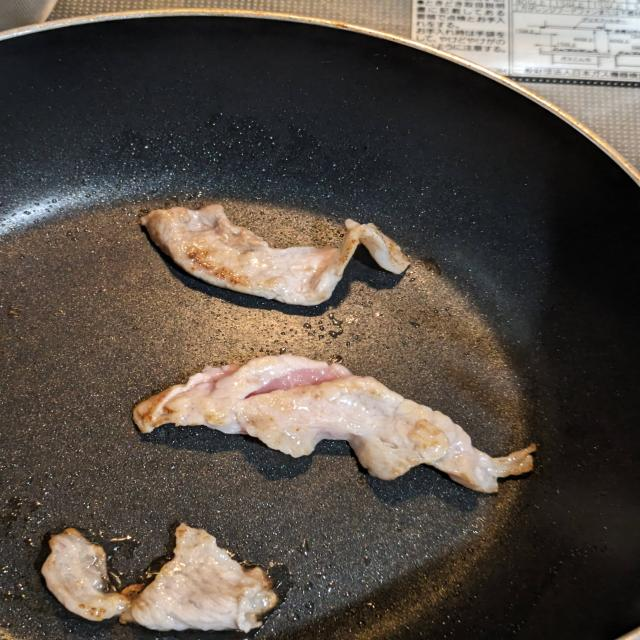NG undercooked pork,: (123, 352, 538, 498)
OK cooked pork,: (125, 197, 421, 316), (36, 518, 284, 640)
